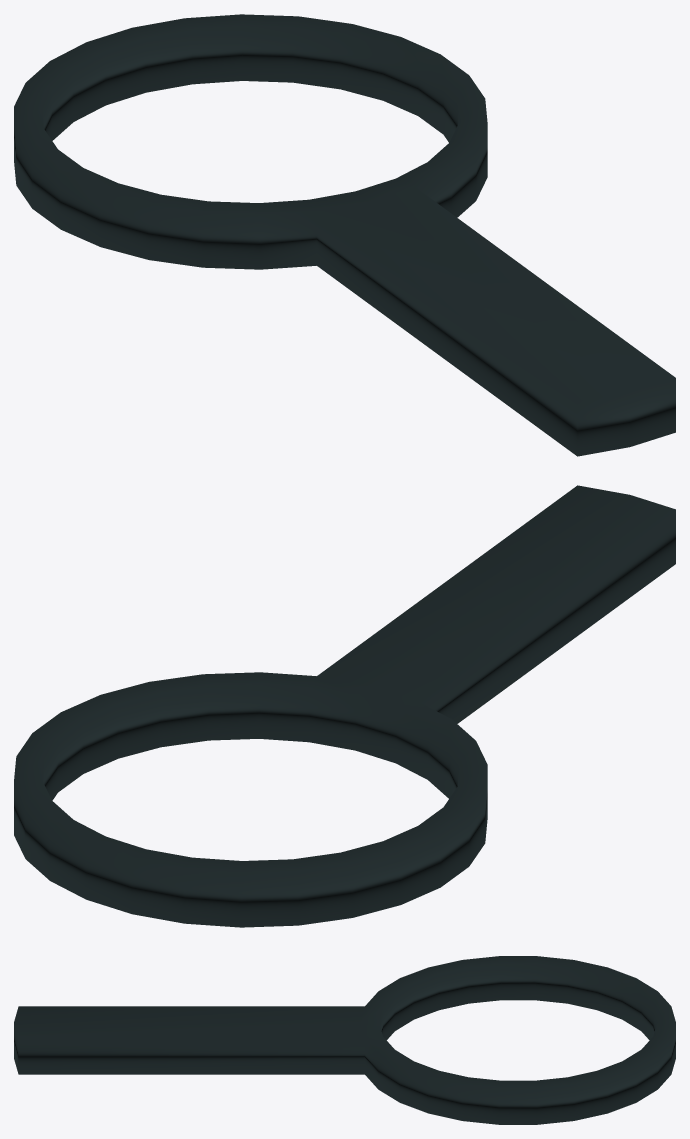
The model's file is Lupa.fbx.
3 renders of one model, top to bottom at view 1: azimuth 30°, elevation 25°; view 2: azimuth 150°, elevation 25°; view 3: azimuth 270°, elevation 25°, orthographic. The views are drawn at different scales.
Visible parts, largest first — view 1: Lupa; view 2: Lupa; view 3: Lupa.
Part boxes in pixels (left/top/right/bottom): Lupa: left=14, top=14, right=675, bottom=456; Lupa: left=14, top=485, right=675, bottom=927; Lupa: left=14, top=956, right=675, bottom=1124.
Bounding box in the file's own units: 11.67 × 1.49 × 24.65.
